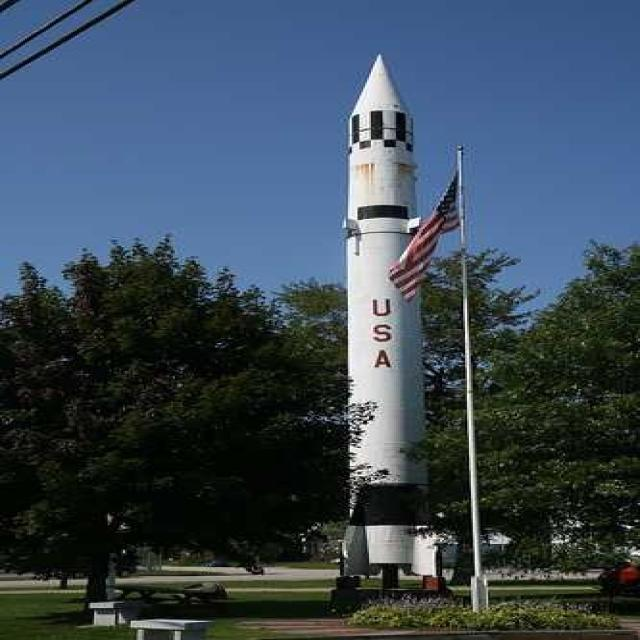missile: (339, 51, 466, 640)
